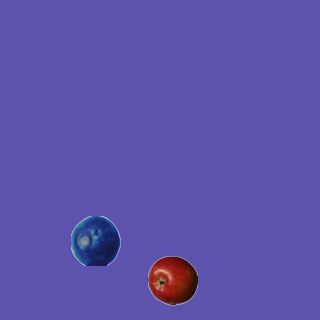Apple Braeburn: (147, 255, 197, 305)
Huckleberry: (70, 215, 120, 265)
